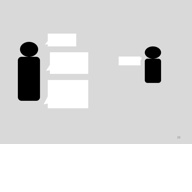left_oneway: (43, 78, 93, 112), (43, 50, 92, 76), (42, 31, 79, 48)
right_oneway: (115, 51, 144, 68)
